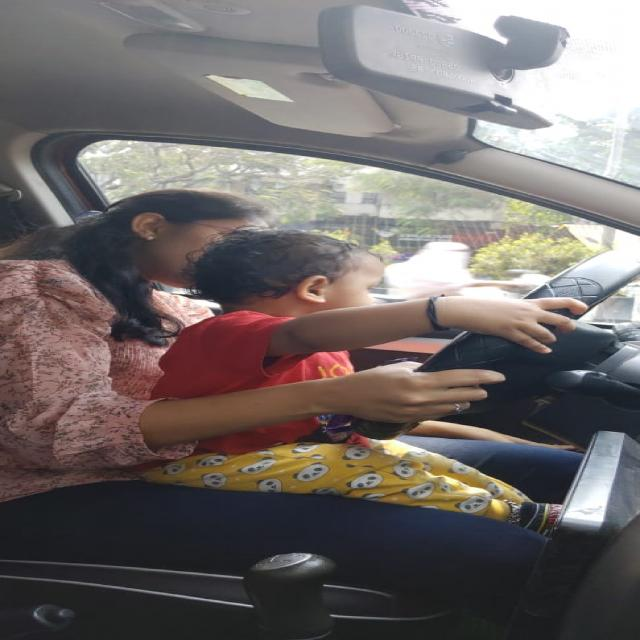child: (184, 229, 423, 325)
